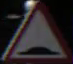Speed Breaker ahead: (9, 8, 61, 56)
